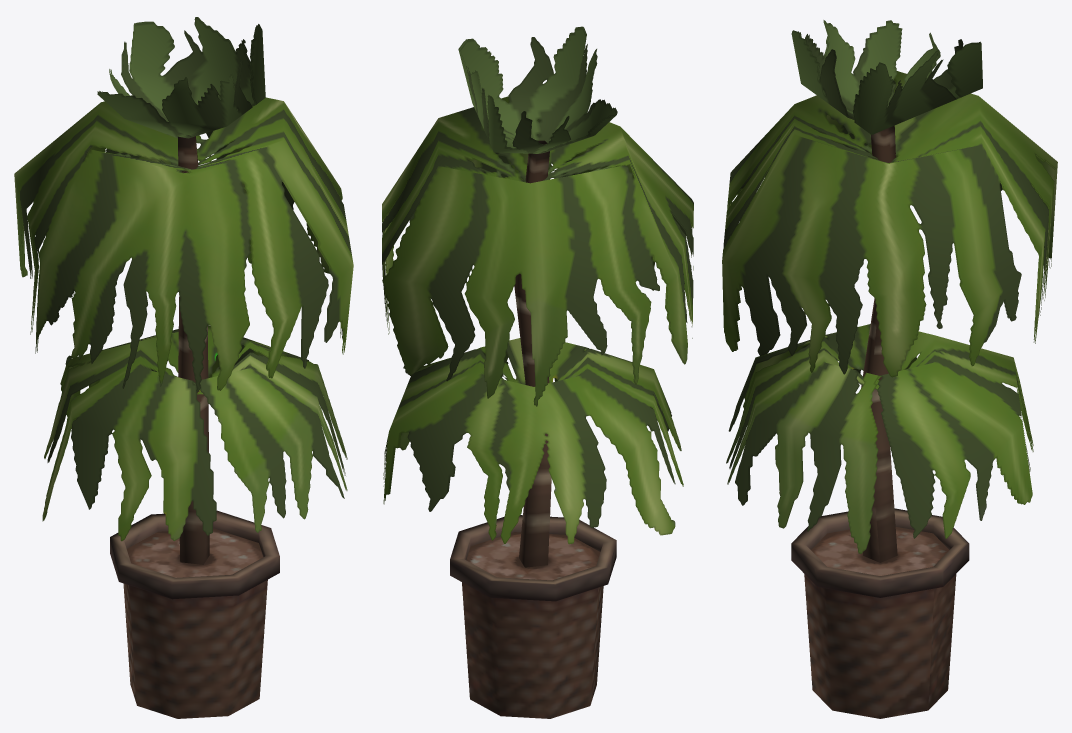
File: Plant.fbx
The picture shows the model from 3 angles, left to right: view 1: azimuth 30°, elevation 25°; view 2: azimuth 150°, elevation 25°; view 3: azimuth 270°, elevation 25°; orthographic projection. The views are drawn at different scales.
Visible parts, largest first — view 1: polySurface1; view 2: polySurface1; view 3: polySurface1.
Boxes of the visible parts, x1,y1,x2,y2 form: polySurface1: [14, 17, 353, 718]; polySurface1: [382, 26, 693, 718]; polySurface1: [722, 20, 1057, 718].
Size of the model in its own units: 1.02 by 2.05 by 0.9313.
Materials: 1 (1 with a texture image).
